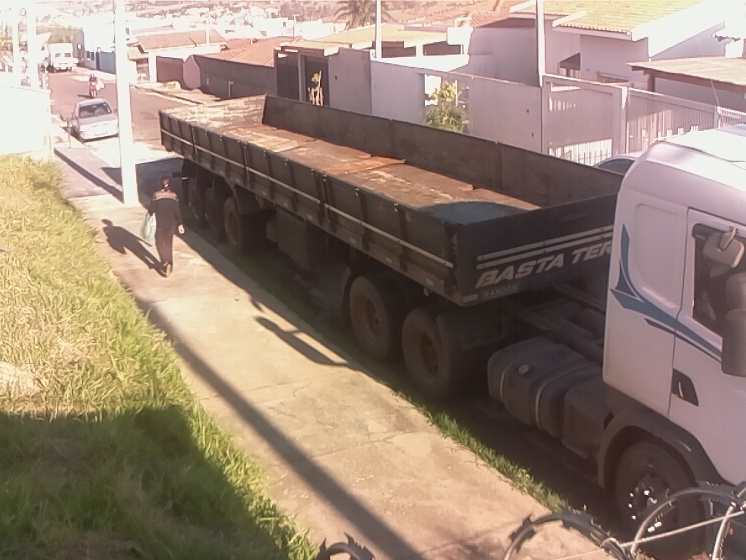person: (140, 172, 190, 279)
